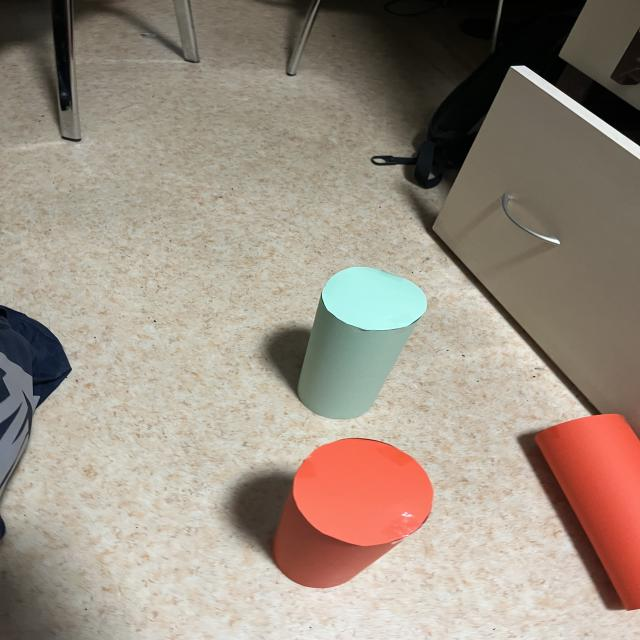meta: (297, 267, 426, 419)
przeszkoda: (274, 438, 433, 587), (536, 414, 640, 610)
